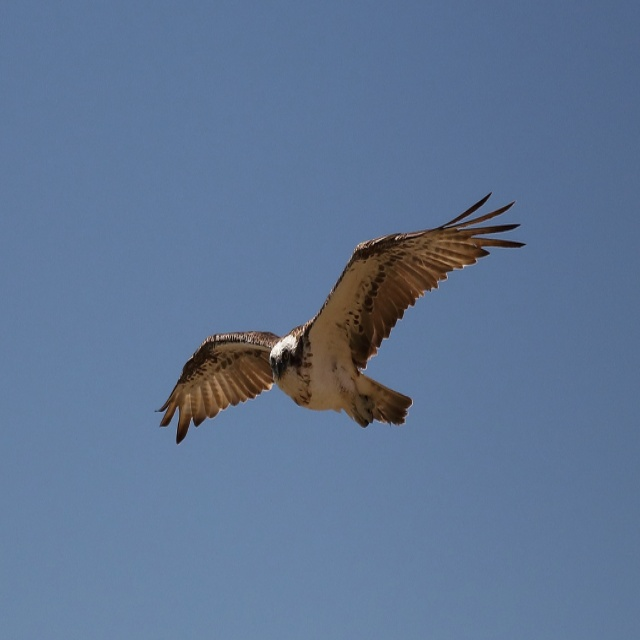Eagle: (154, 192, 527, 444)
